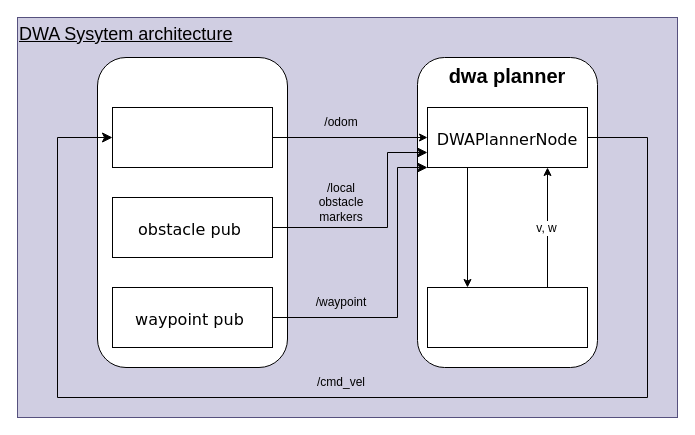
The diagram is 695 pixels wide and 435 high, and some of its shapes have lost their labels. The box of each missing label's shape, as (x1, y1, x2, y2) in pixels:
arcanain simulator: (96, 56, 288, 368)
DWA: (426, 286, 588, 348)
odometory pub: (112, 106, 272, 168)
